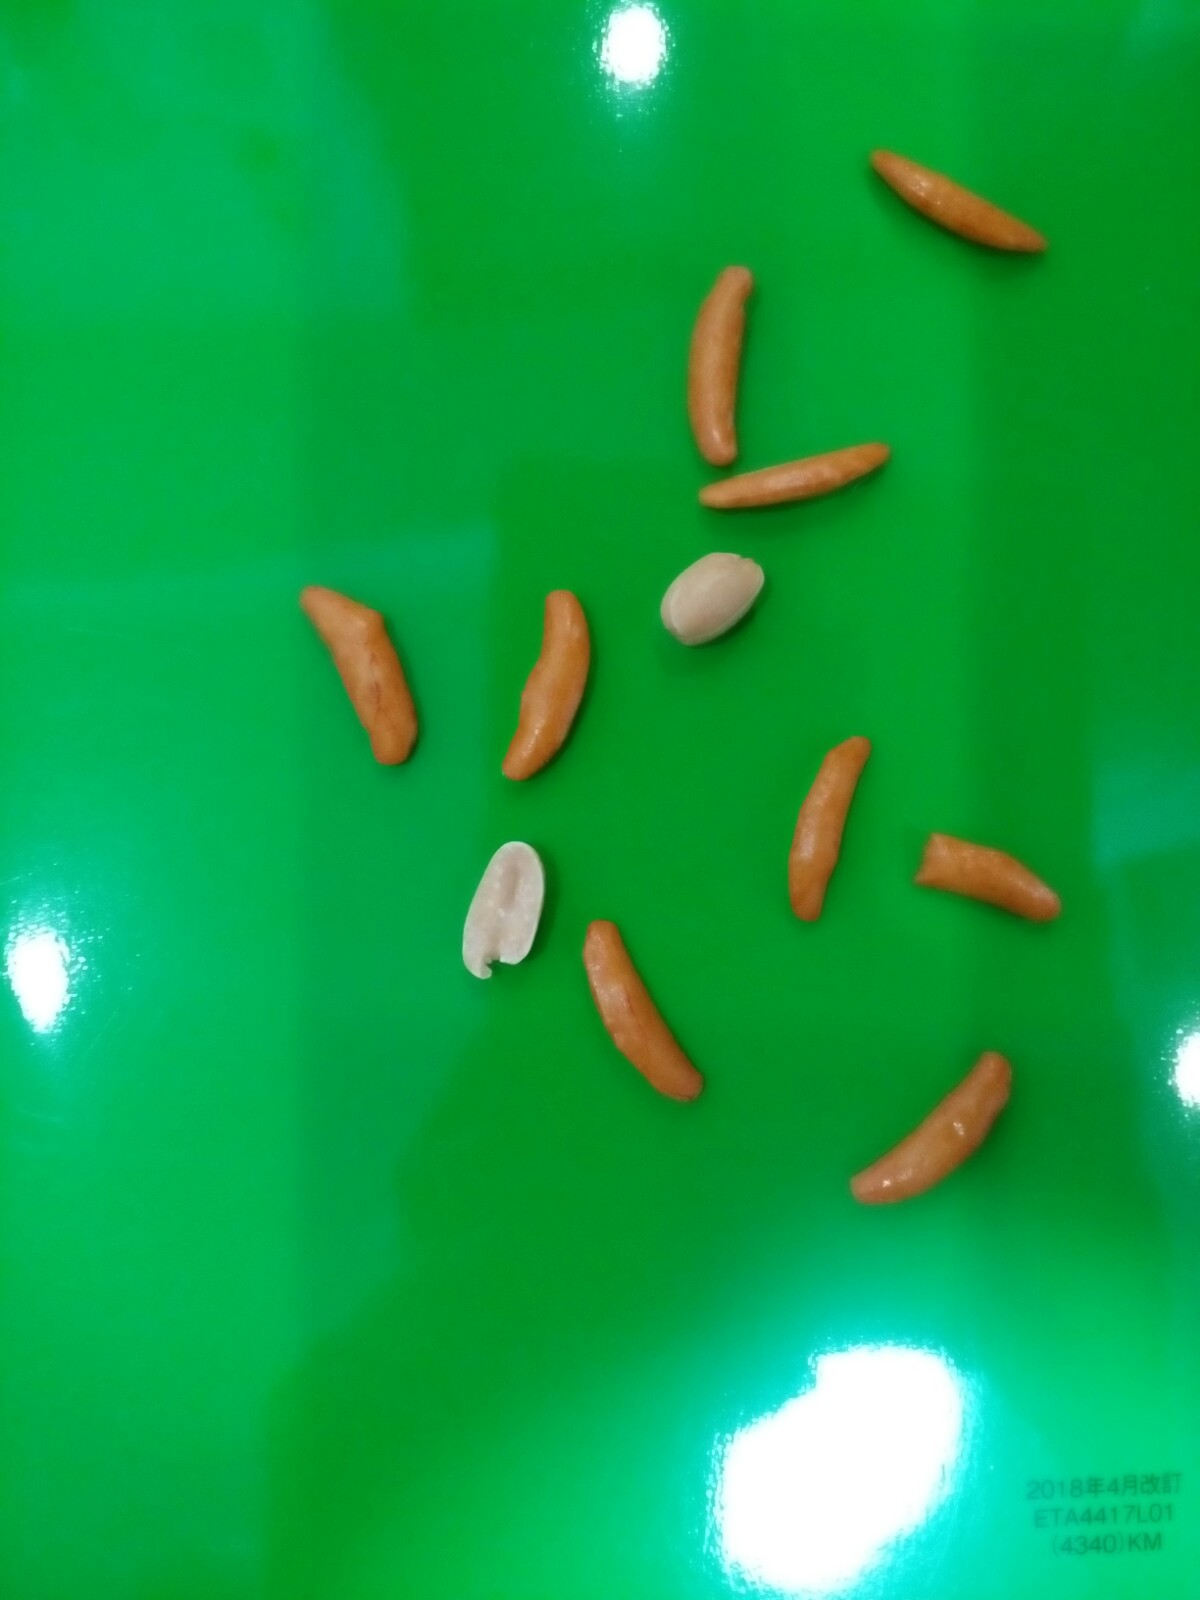peanut: (460, 831, 552, 980), (655, 542, 775, 653)
